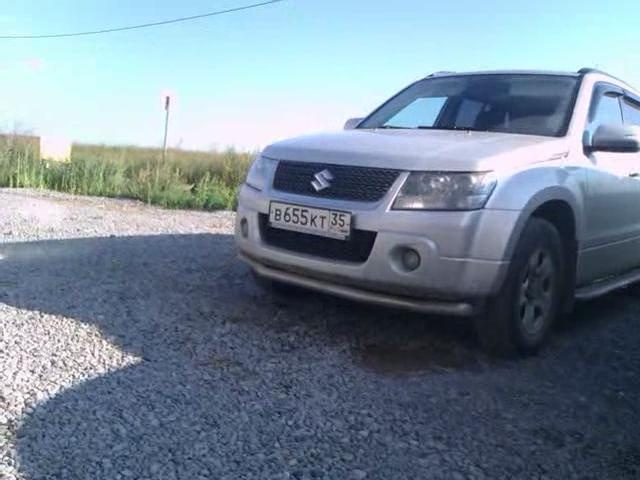car license plate: (269, 202, 351, 242)
